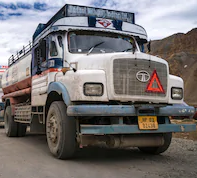truck: (1, 1, 194, 158)
